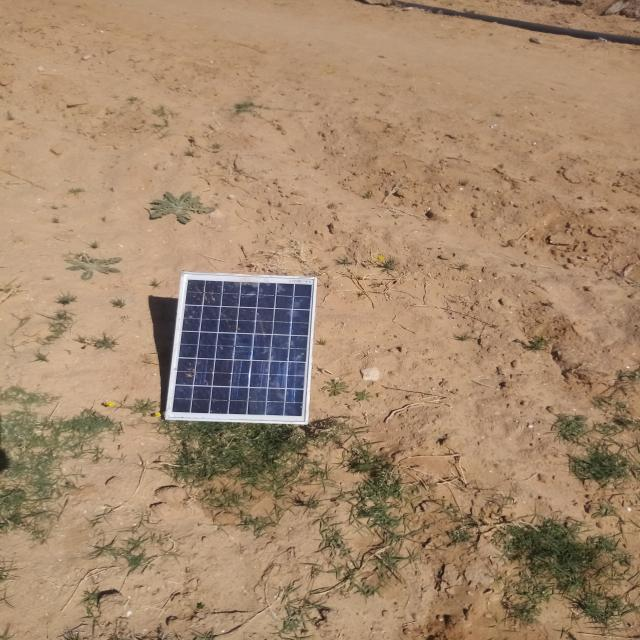faulty: (167, 273, 316, 424)
